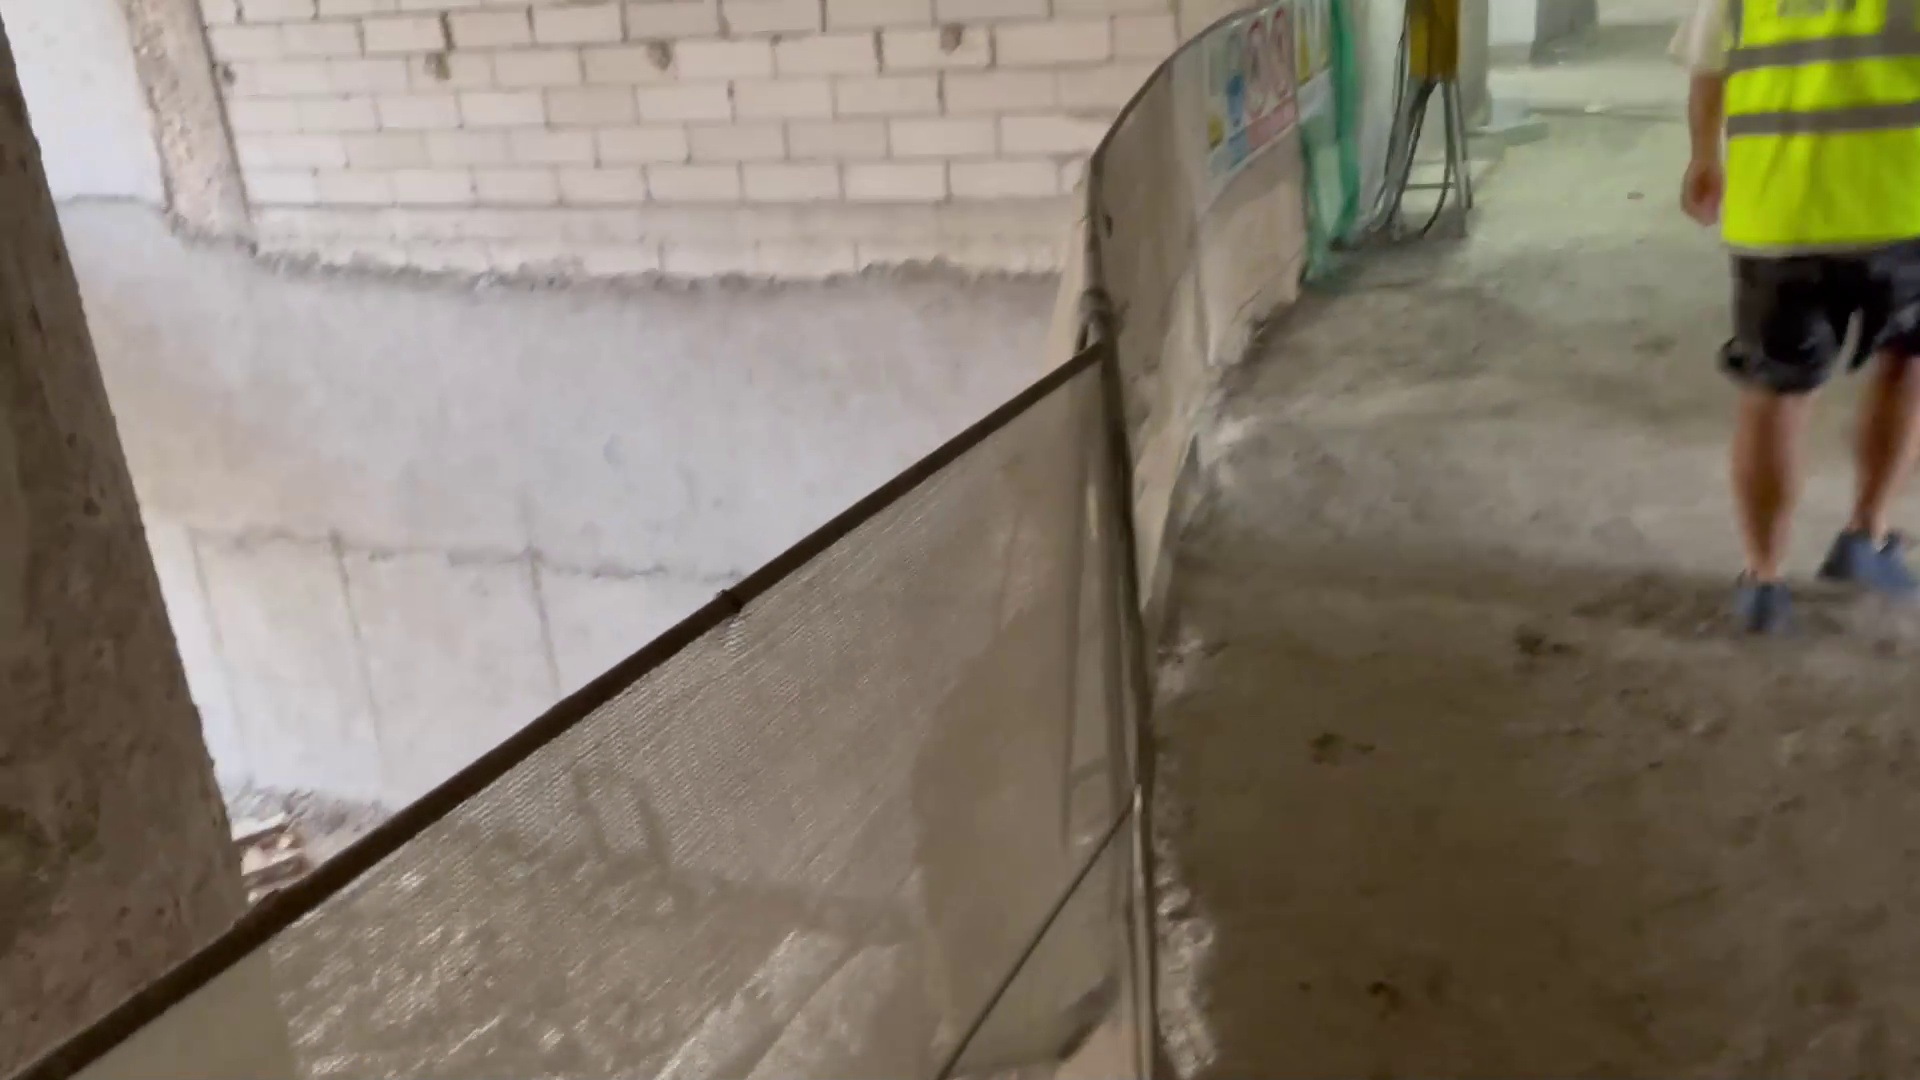ebox: (1383, 1, 1477, 245)
person: (1690, 1, 1912, 617)
slogan: (1167, 7, 1346, 155)
vest: (1714, 2, 1920, 261)
